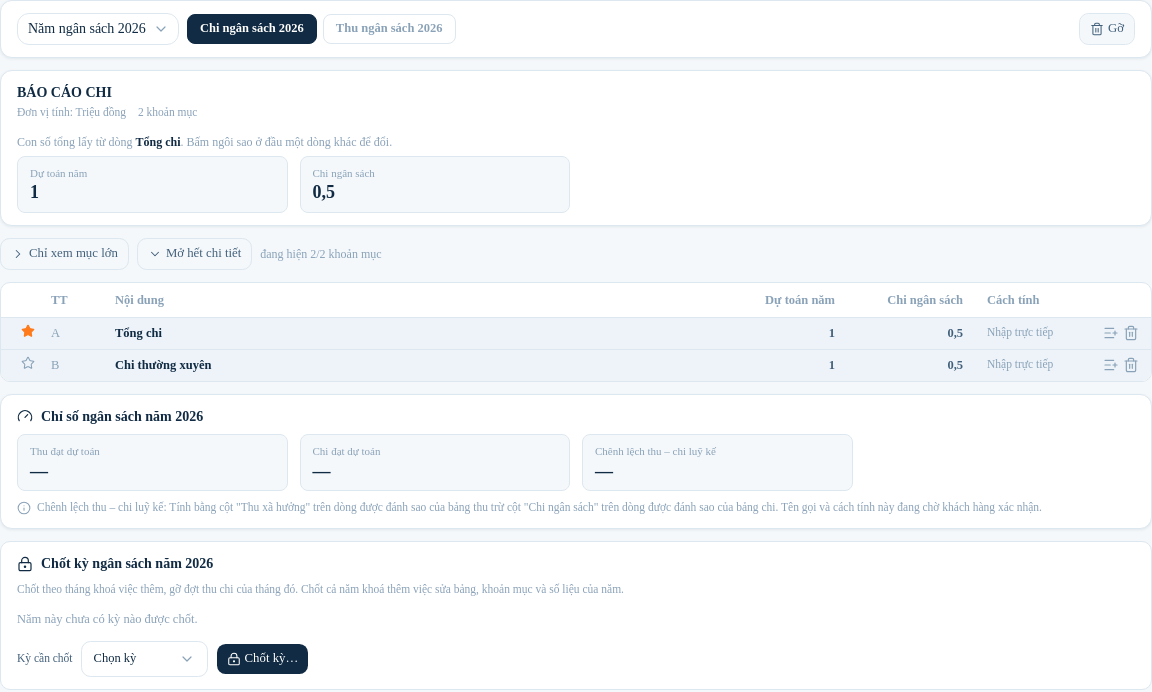
Test: ngôi sao dòng tổng — đổi TẠI CHỖ, không nháy màn (bảng lỗi khách hàng dòng 51) › máy chủ từ chối: câu của máy chủ nguyên văn, sao về đúng chỗ máy chủ giữ
What coordinates should you click on to do the following:
click the button named "Đặt \"Chi thường xuyên\" làm con số tổng"
I would click on:
 (28, 363)
Its box is [21, 356, 35, 370].
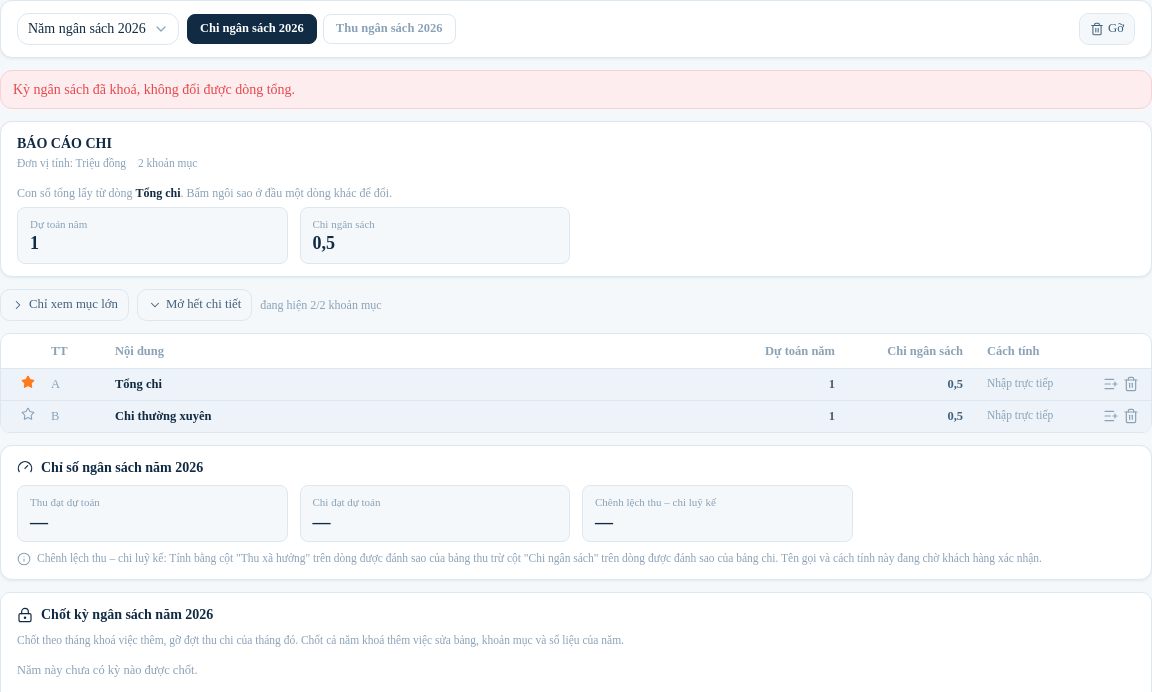
Expected: the button named "Đặt \"Tổng chi\" làm con số tổng" is shown, [21, 375, 35, 389]
Expected: the text "Kỳ ngân sách đã khoá, không đổi được dòng tổng." is shown, [0, 70, 1151, 109]
